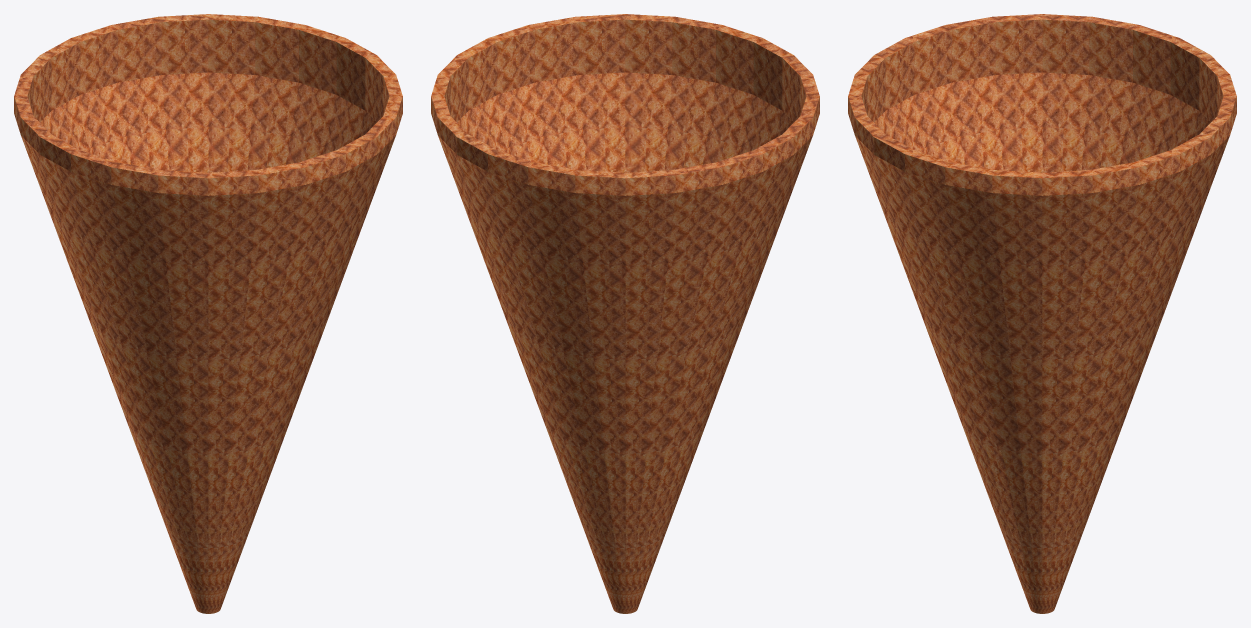
File: waffle_v1.dae
3 views of the same model, side by side, from view 1: azimuth 30°, elevation 25°; view 2: azimuth 150°, elevation 25°; view 3: azimuth 270°, elevation 25° (orthographic).
Visible parts, largest first — view 1: SketchUp (×2); view 2: SketchUp (×2); view 3: SketchUp (×2).
Part boxes in pixels (bbox=[...]): SketchUp (×2): bbox=[14, 14, 402, 613]; SketchUp (×2): bbox=[431, 14, 819, 613]; SketchUp (×2): bbox=[848, 14, 1236, 613].
Bounding box in the file's own units: 7.87 × 7.87 × 11.46.
